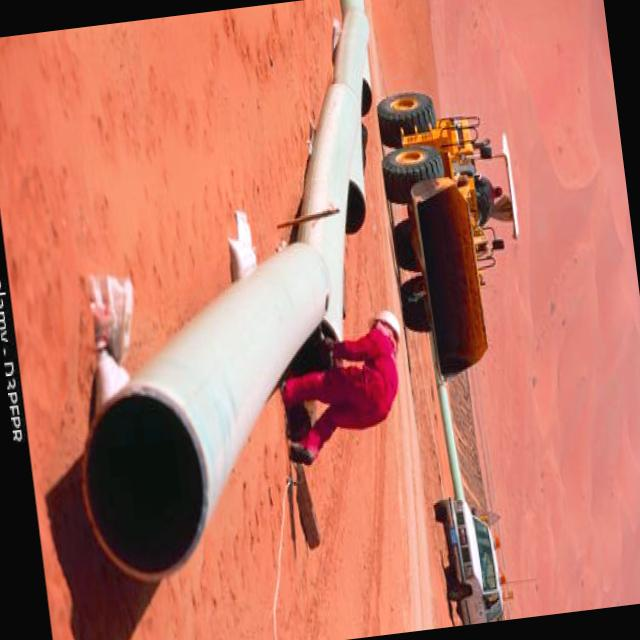gas: (83, 0, 370, 579)
